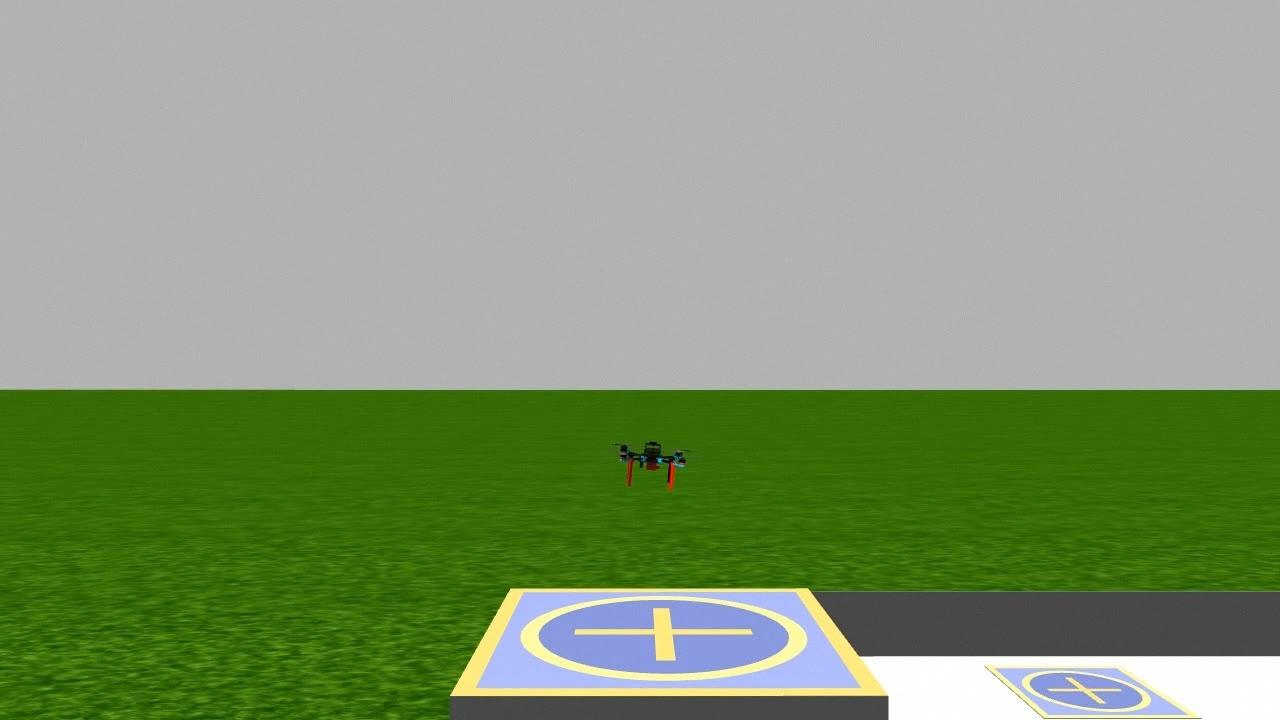UAV: (608, 422, 703, 504)
